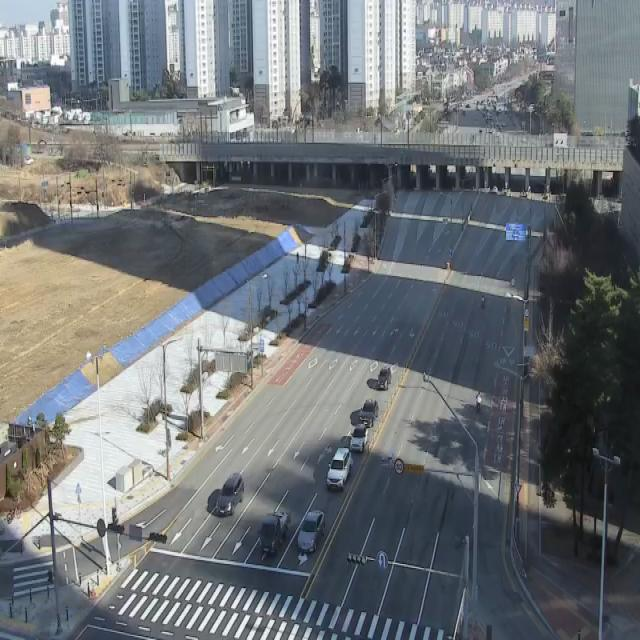Car: (259, 512, 291, 556), (215, 473, 245, 516), (297, 512, 326, 552), (327, 448, 354, 490), (358, 399, 379, 426), (350, 424, 368, 451), (377, 368, 392, 390)
Motorcycle: (476, 392, 483, 406)
